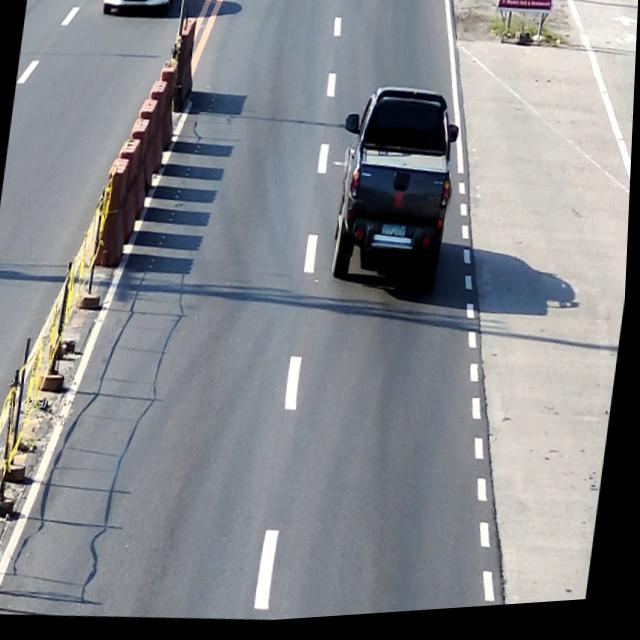Car: (326, 83, 467, 305), (100, 0, 179, 20)
License-Plate: (384, 228, 409, 244), (127, 0, 144, 0)
